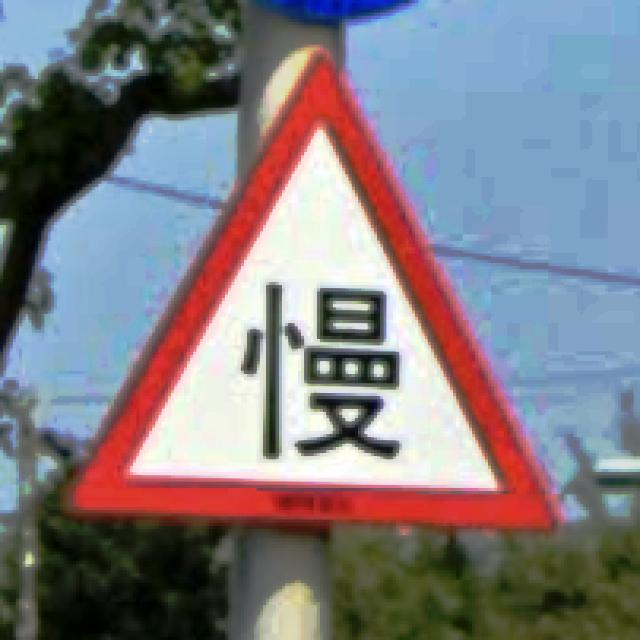slow: (63, 54, 558, 535)
